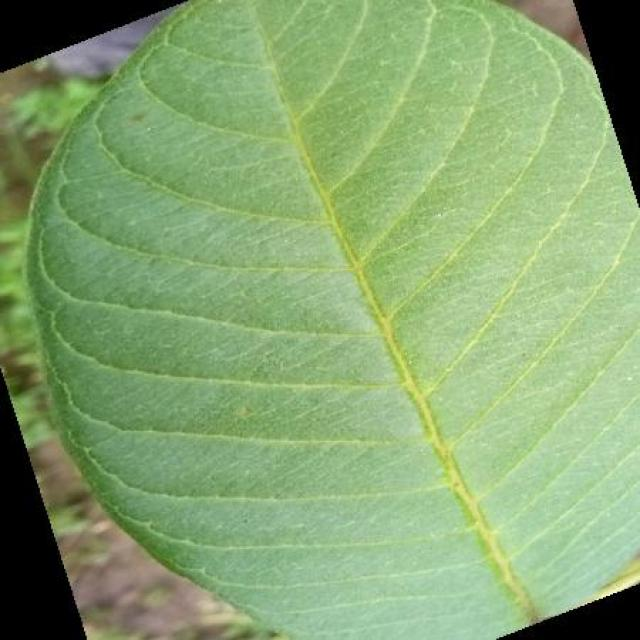Disease Free: (28, 1, 640, 640)
